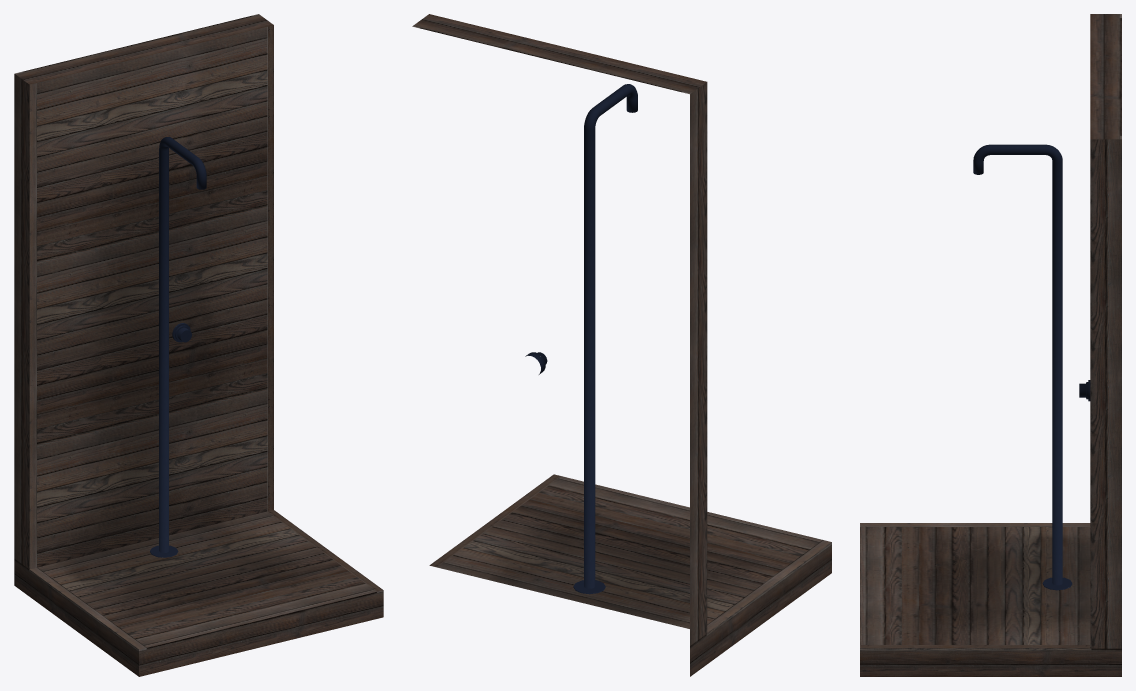
3 renders of one model, left to right at view 1: azimuth 30°, elevation 25°; view 2: azimuth 150°, elevation 25°; view 3: azimuth 270°, elevation 25°, orthographic. The views are drawn at different scales.
Parts seen in each view (by area): view 1: Exterior shower_2; view 2: Exterior shower_2; view 3: Exterior shower_2.
Part boxes in pixels (x1,y1,x2,y2): Exterior shower_2: (14,14,383,676); Exterior shower_2: (412,14,831,676); Exterior shower_2: (860,14,1121,676).
Bounding box in the file's own units: 122 × 244 × 108.
Materials: 1 (1 with a texture image).
